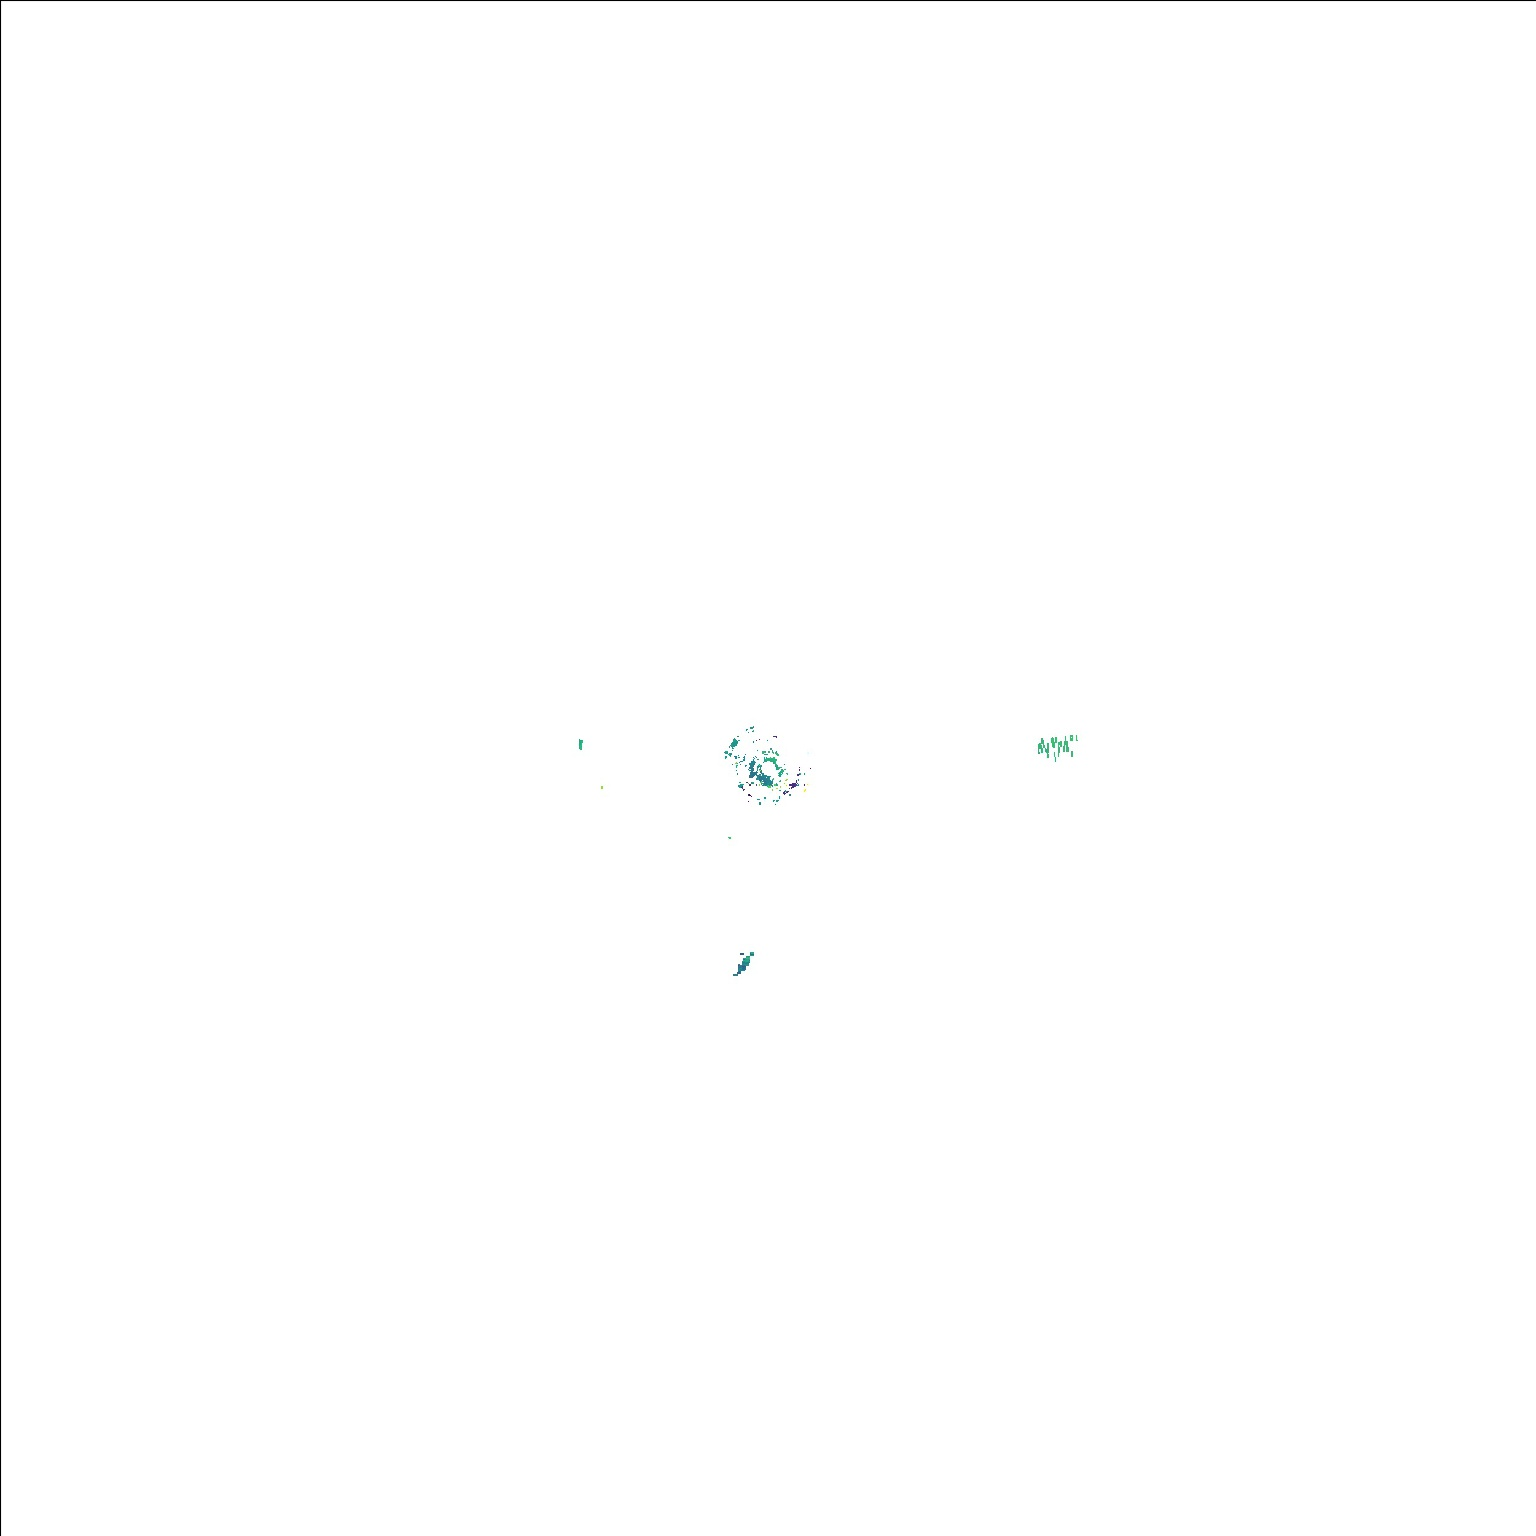fall: (729, 942, 757, 983)
